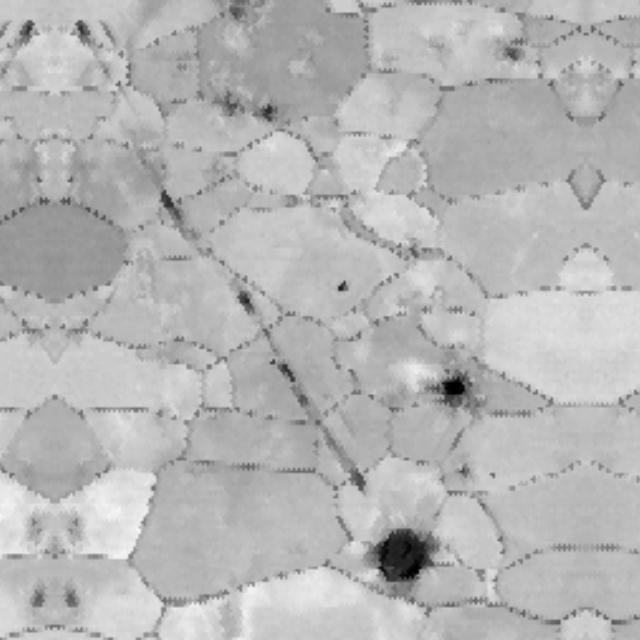good_void: (362, 528, 437, 591), (266, 346, 315, 407), (425, 363, 471, 411), (64, 10, 104, 50), (4, 10, 44, 50), (157, 189, 192, 231), (226, 286, 263, 322), (352, 466, 381, 502), (55, 582, 88, 613), (20, 582, 53, 613), (218, 93, 246, 124), (403, 236, 433, 261), (64, 513, 85, 548), (23, 513, 44, 548), (504, 39, 532, 65), (253, 100, 281, 124), (329, 280, 355, 295), (457, 462, 473, 482), (489, 469, 505, 482)
